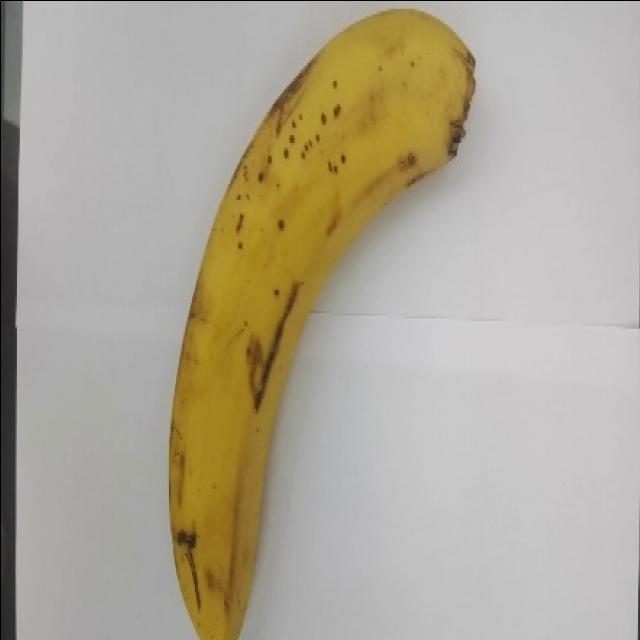Apple: (167, 6, 477, 640)
